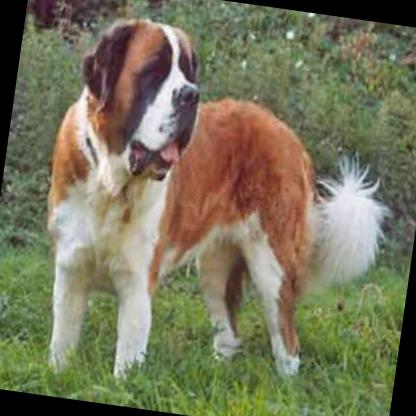Saint_Bernard: (19, 7, 409, 414)
